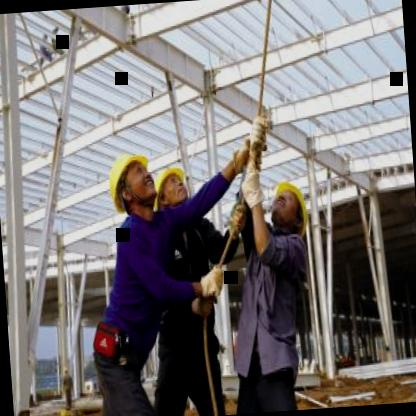helmet: (104, 149, 162, 219), (267, 176, 310, 232), (153, 161, 191, 210)
